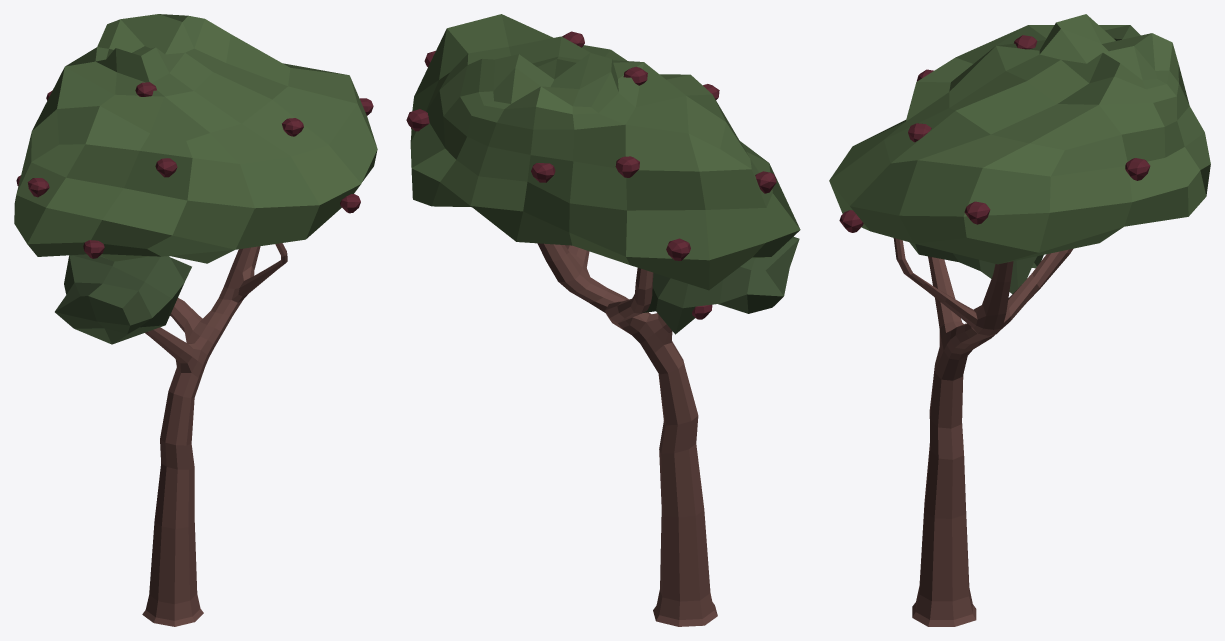
The model's file is apple_4.gltf.
The picture shows the model from 3 angles, left to right: view 1: azimuth 30°, elevation 25°; view 2: azimuth 150°, elevation 25°; view 3: azimuth 270°, elevation 25°; orthographic projection. The views are drawn at different scales.
Parts seen in each view (by area): view 1: apple_4; view 2: apple_4; view 3: apple_4.
Part boxes in pixels (x1,y1,x2,y2): apple_4: (14, 14, 377, 626); apple_4: (406, 14, 800, 626); apple_4: (829, 14, 1210, 626).
Bounding box in the file's own units: 1.86 × 2.76 × 1.58.
Materials: 1 (1 with a texture image).
